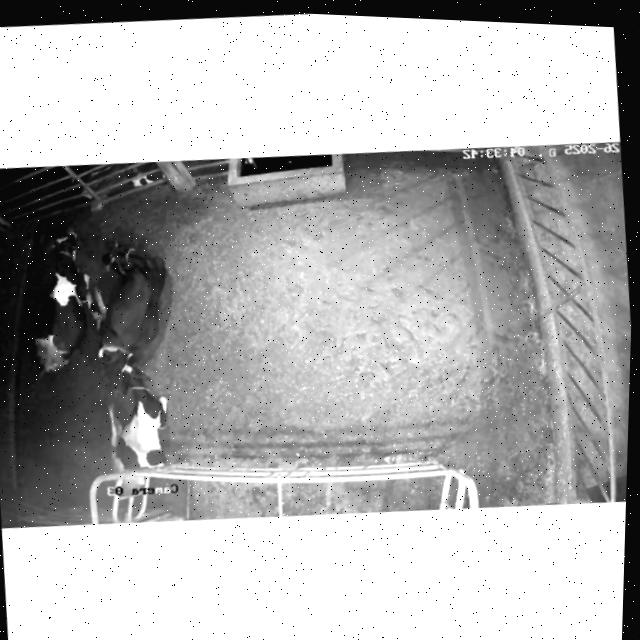lay: (81, 344, 202, 491), (7, 214, 100, 386), (82, 230, 188, 373)
